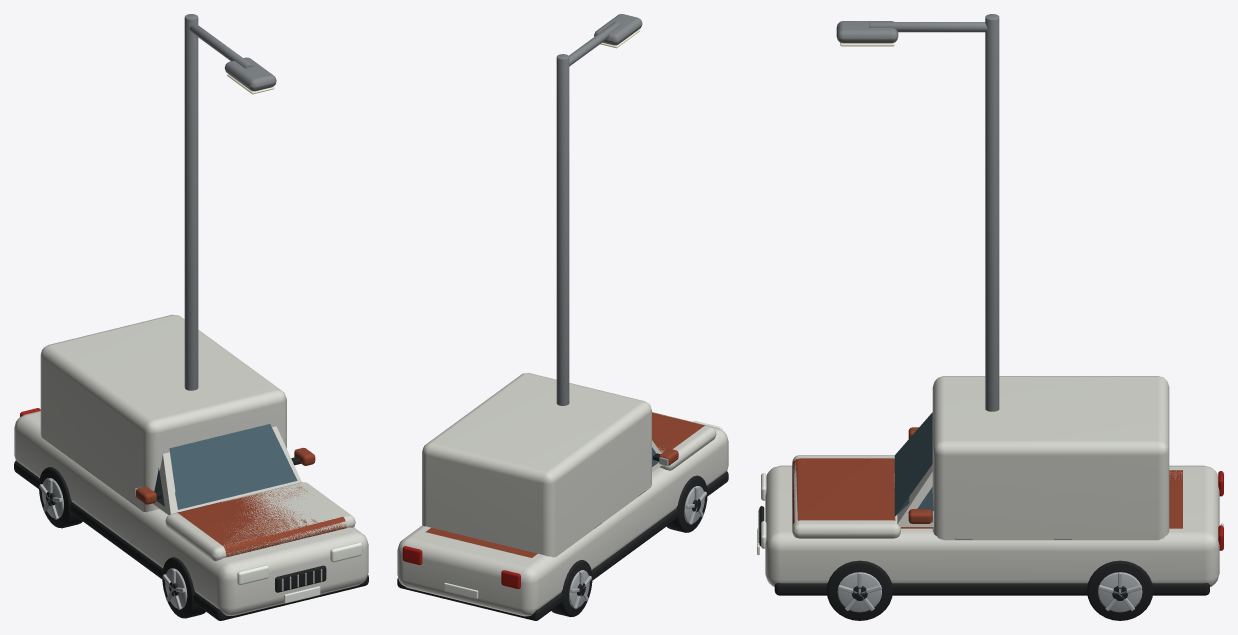
Rendered from props.glb.
3 renders of one model, left to right at view 1: azimuth 30°, elevation 25°; view 2: azimuth 150°, elevation 25°; view 3: azimuth 270°, elevation 25°, orthographic. The views are drawn at different scales.
Parts seen in each view (by area): view 1: car_van / car_van paint, car_van / Glass / dark reflective, lamp / Street lamp / galvanized steel, car_hatch / car_hatch paint, car_van / Tyres and rubber, car_hatch / Tyres and rubber, car_hatch / Wheel alloys, car_van / Headlight glass; view 2: car_van / car_van paint, lamp / Street lamp / galvanized steel, car_hatch / car_hatch paint, car_van / Tyres and rubber, car_hatch / Tyres and rubber, car_hatch / Wheel alloys, car_van / Rear lamp red; view 3: car_van / car_van paint, lamp / Street lamp / galvanized steel, car_hatch / car_hatch paint, car_van / Tyres and rubber, car_hatch / Tyres and rubber, car_hatch / Wheel alloys, car_van / Glass / dark reflective.
Part boxes in pixels (box(x1,y1,x2,y2)): car_van / car_van paint: box(14, 314, 368, 615); car_van / Glass / dark reflective: box(154, 424, 297, 509); lamp / Street lamp / galvanized steel: box(184, 14, 276, 390); car_hatch / car_hatch paint: box(136, 448, 346, 556); car_van / Tyres and rubber: box(14, 460, 368, 620); car_hatch / Tyres and rubber: box(39, 457, 300, 618); car_hatch / Wheel alloys: box(39, 447, 303, 609); car_van / Headlight glass: box(237, 542, 362, 603); car_van / car_van paint: box(397, 373, 728, 616); lamp / Street lamp / galvanized steel: box(556, 14, 642, 405); car_hatch / car_hatch paint: box(425, 412, 704, 557); car_van / Tyres and rubber: box(397, 471, 728, 620); car_hatch / Tyres and rubber: box(551, 453, 707, 616); car_hatch / Wheel alloys: box(569, 457, 706, 608); car_van / Rear lamp red: box(402, 546, 520, 588); car_van / car_van paint: box(765, 376, 1219, 586); lamp / Street lamp / galvanized steel: box(836, 14, 999, 411); car_hatch / car_hatch paint: box(792, 427, 1182, 528); car_van / Tyres and rubber: box(759, 506, 1209, 595); car_hatch / Tyres and rubber: box(827, 560, 1152, 620); car_hatch / Wheel alloys: box(837, 511, 1142, 612); car_van / Glass / dark reflective: box(894, 412, 933, 516).
Size of the model in its own units: 2.2 by 6.6 by 4.93.
